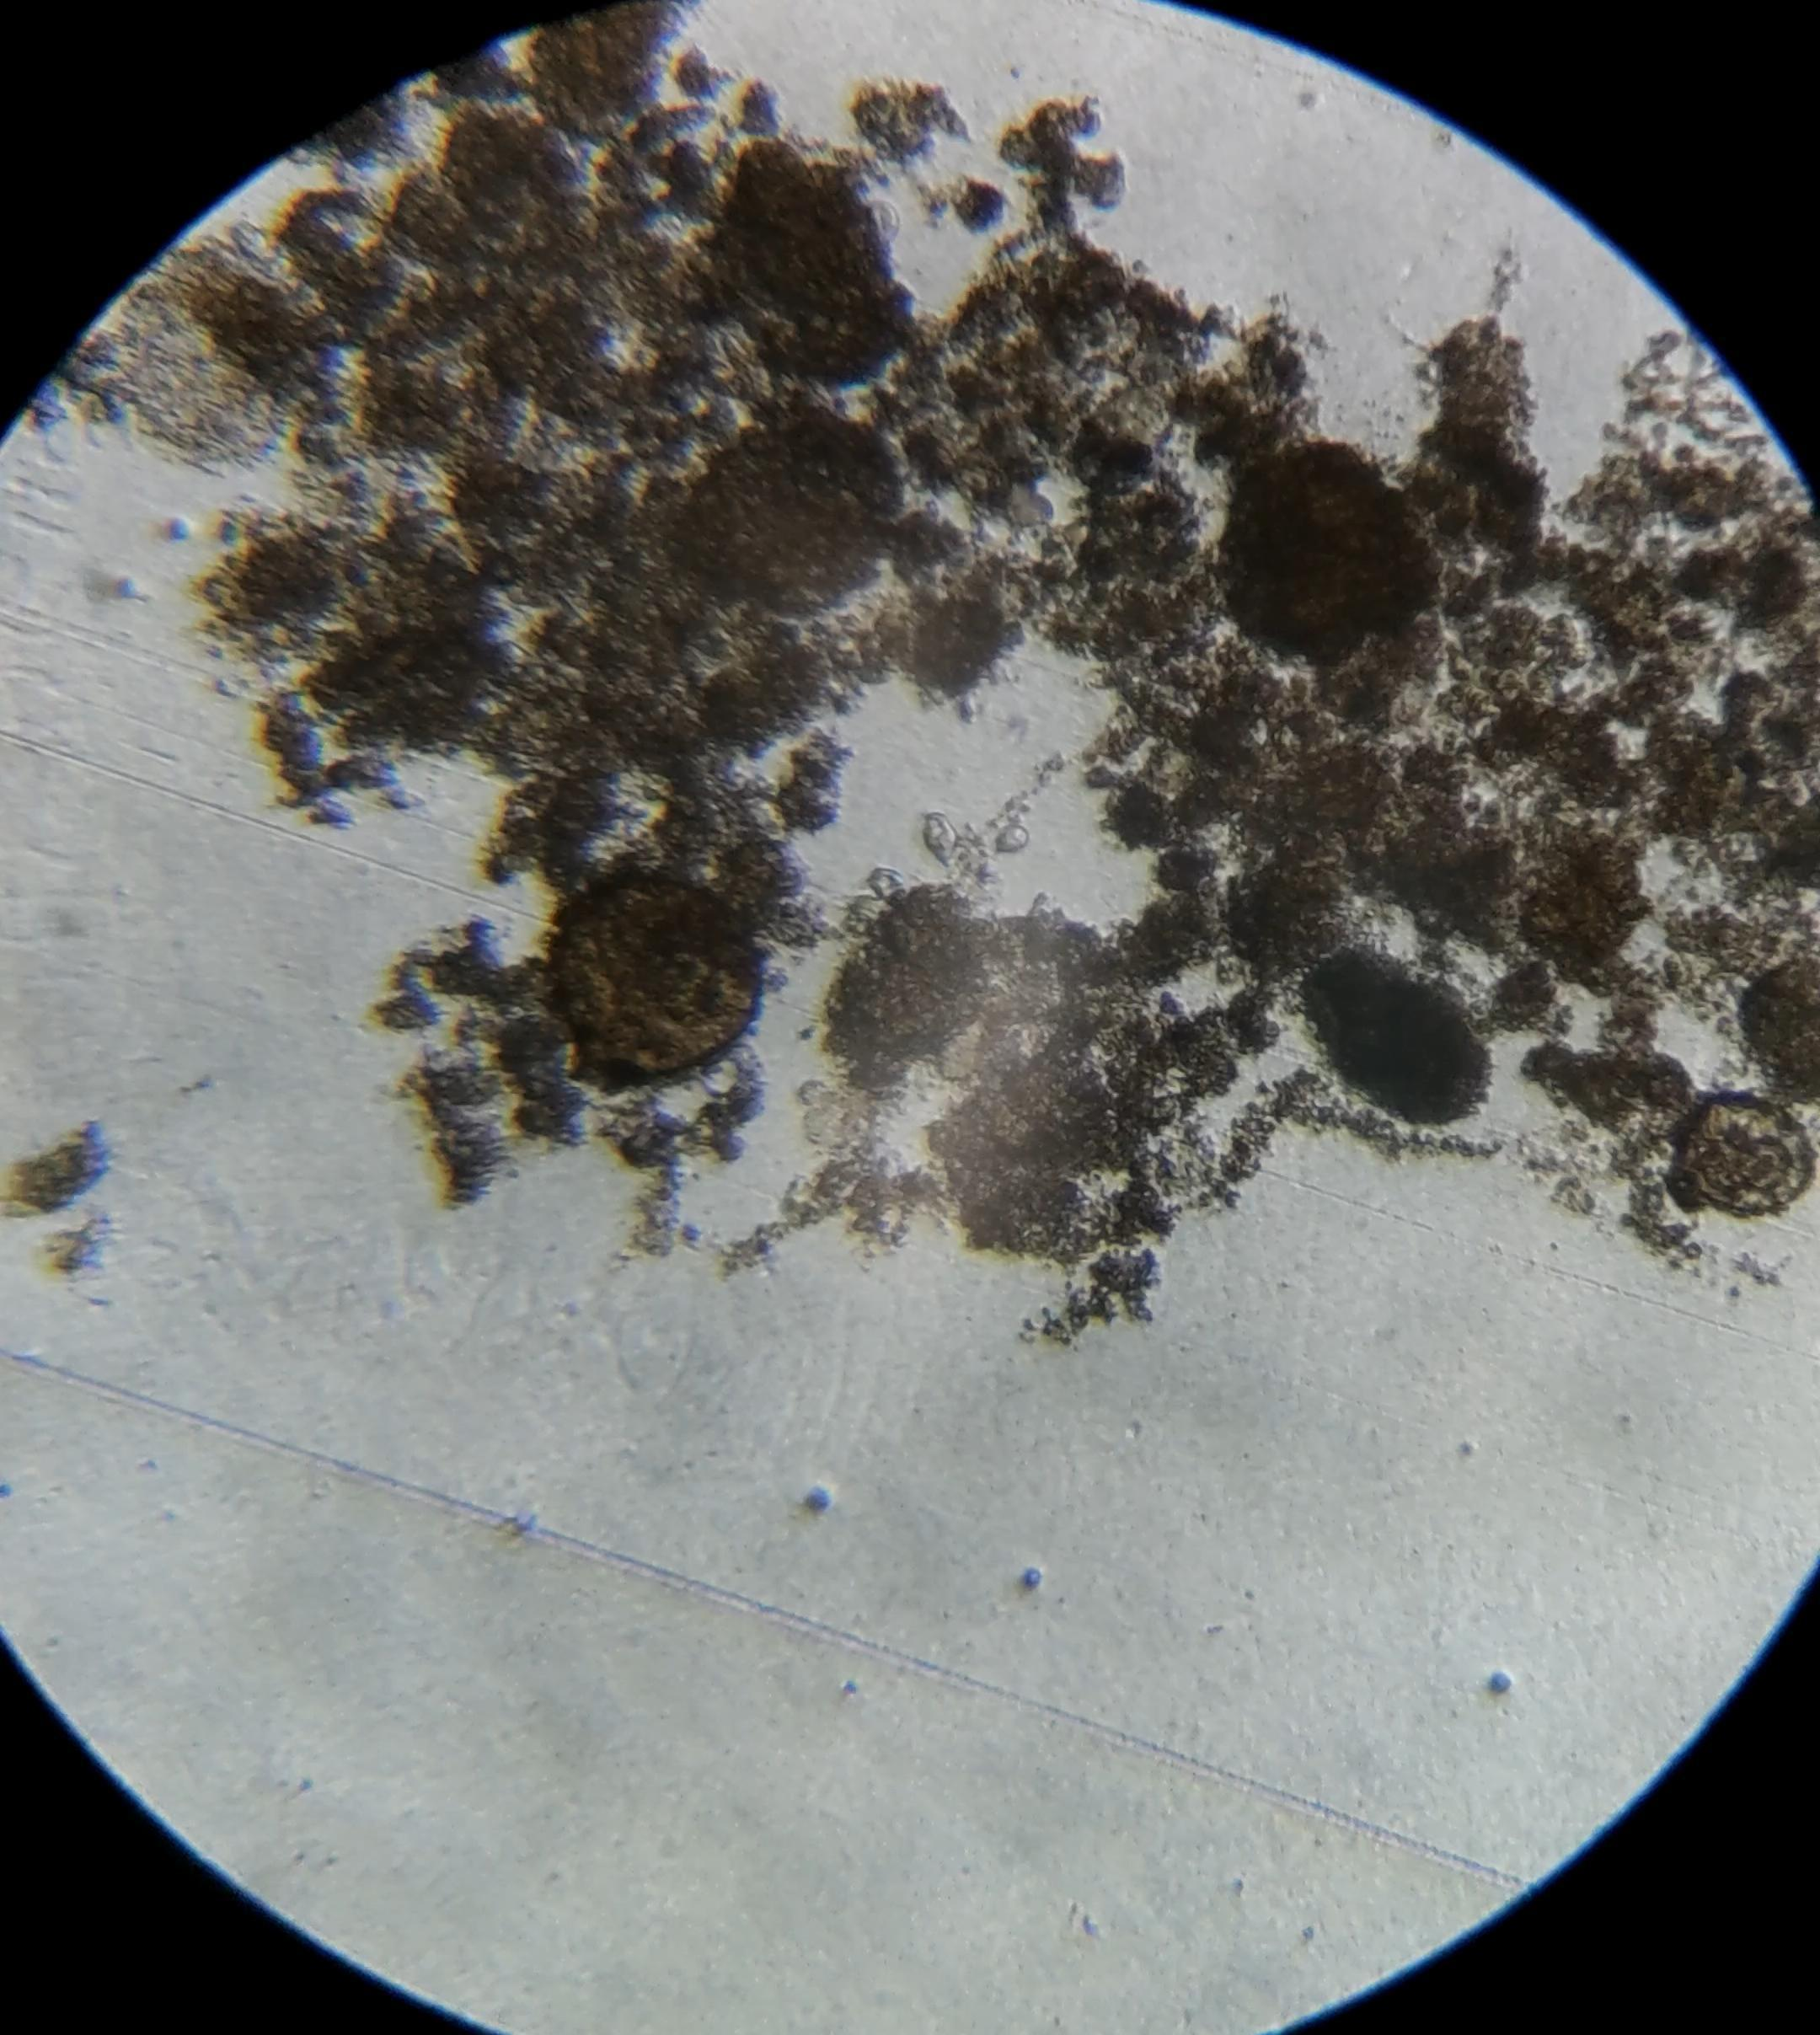Arcella: (559, 872, 761, 1074), (1679, 1091, 1808, 1216)
